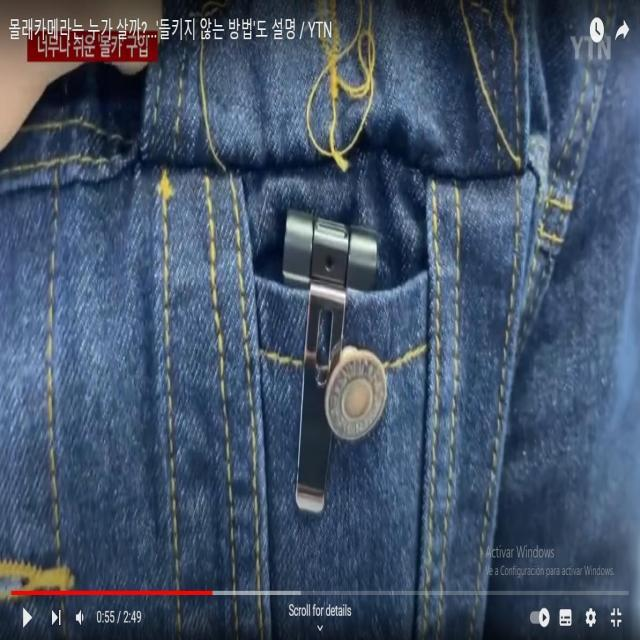hidden camera: (313, 225, 347, 290)
